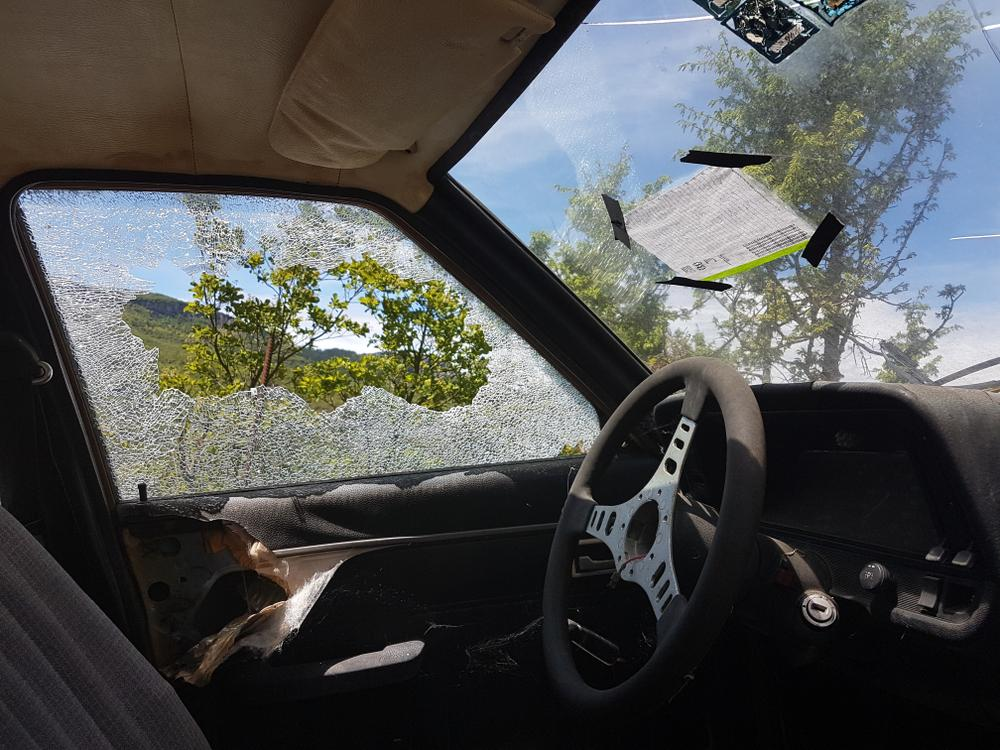glass shatter: (15, 189, 601, 501)
